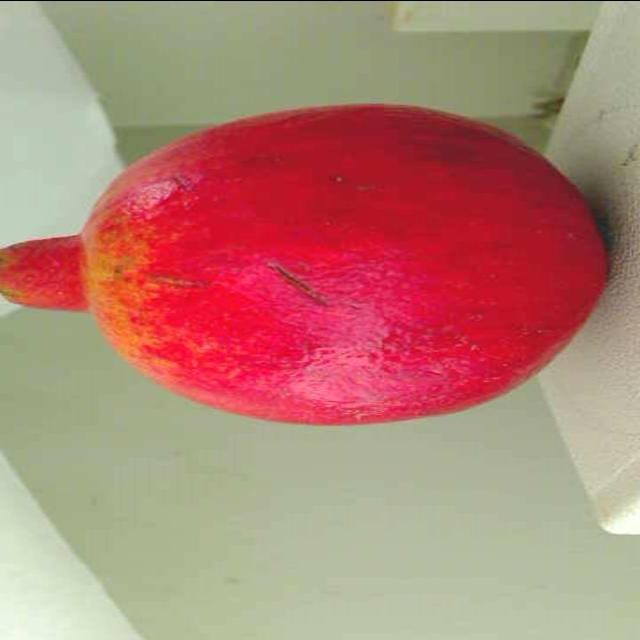pomegranate: (0, 93, 618, 429)
